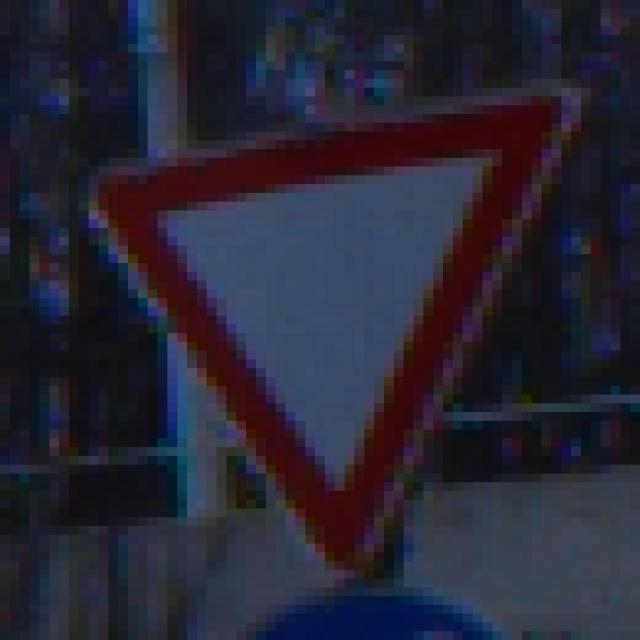Give Way: (60, 63, 592, 589)
